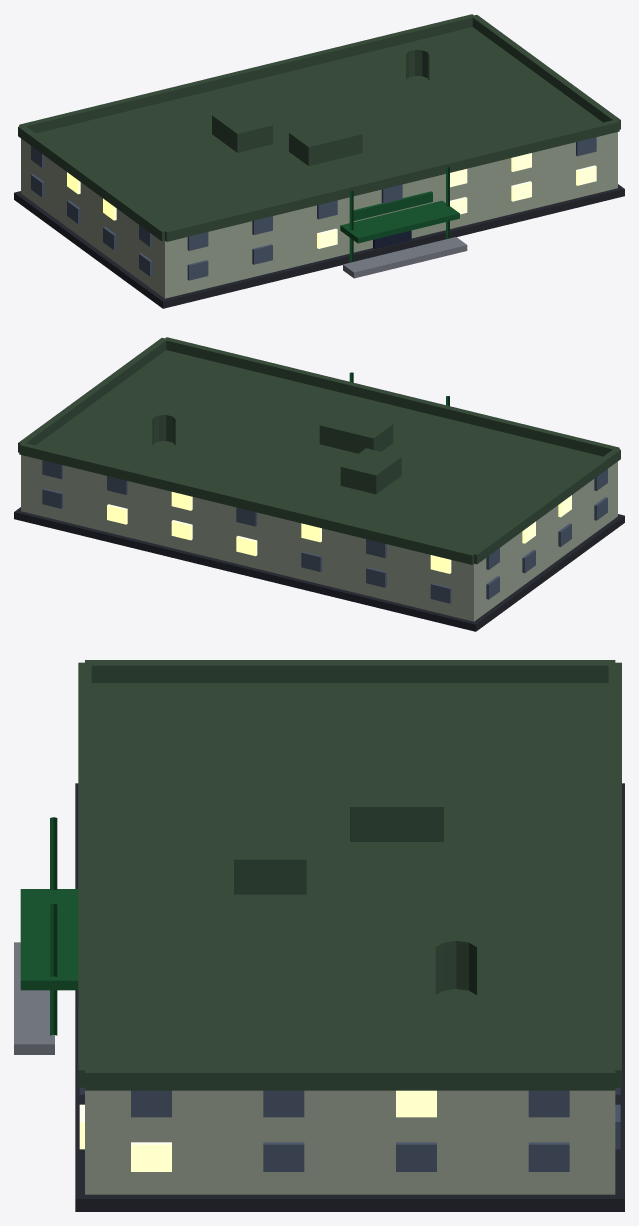
The model's file is gym-high.glb.
3 views of the same model, one above another, from view 1: azimuth 30°, elevation 25°; view 2: azimuth 150°, elevation 25°; view 3: azimuth 270°, elevation 25° (orthographic). The views are drawn at different scales.
Bounding box in the file's own units: 81.6 × 15.4 × 50.7.
